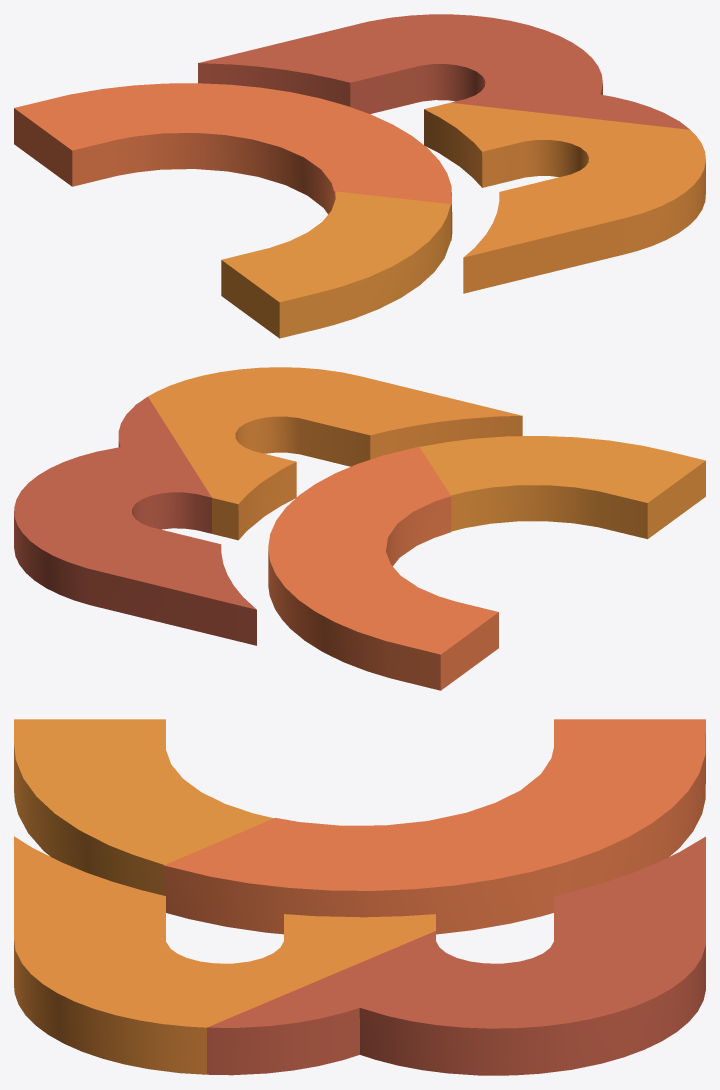
File: IconD3.glb
3 renders of one model, top to bottom at view 1: azimuth 30°, elevation 25°; view 2: azimuth 150°, elevation 25°; view 3: azimuth 270°, elevation 25°, orthographic. The views are drawn at different scales.
Parts seen in each view (by area): view 1: IconD3; view 2: IconD3; view 3: IconD3.
Boxes of the visible parts, bbox=[...] form: IconD3: bbox=[14, 14, 705, 338]; IconD3: bbox=[14, 367, 705, 690]; IconD3: bbox=[14, 719, 705, 1075].
Bounding box in the file's own units: 2.15 × 0.1528 × 2.03.
